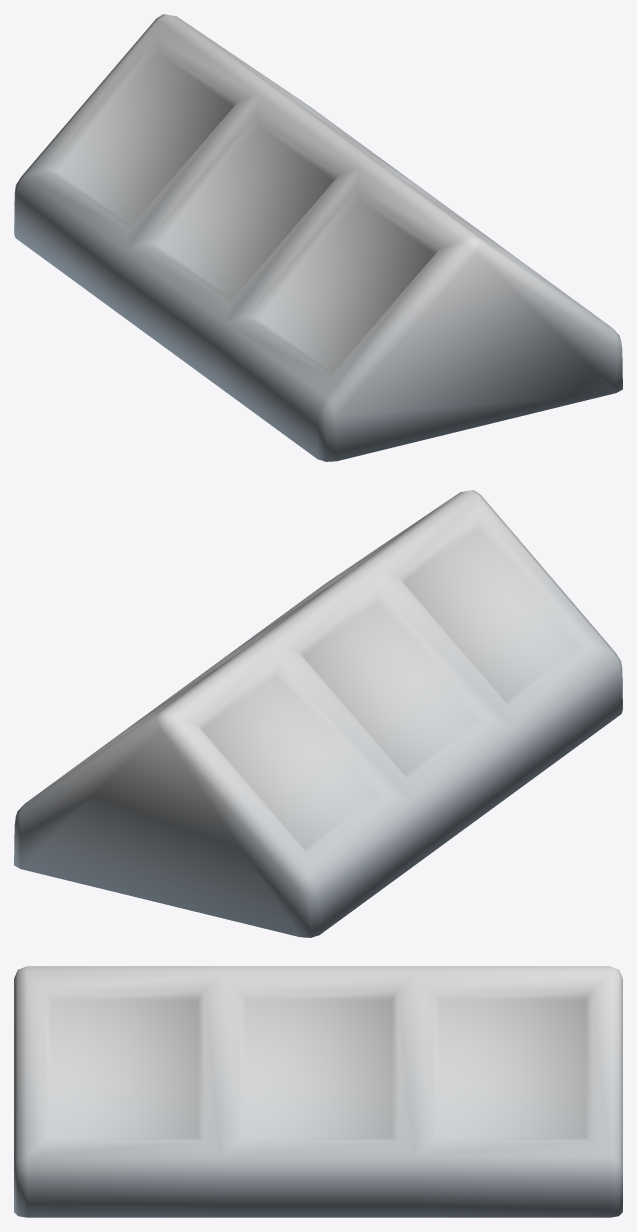
The model's file is SkyWindow_001.fbx.
3 views of the same model, one above another, from view 1: azimuth 30°, elevation 25°; view 2: azimuth 150°, elevation 25°; view 3: azimuth 270°, elevation 25° (orthographic). The views are drawn at different scales.
Visible parts, largest first — view 1: SkyWindow_001; view 2: SkyWindow_001; view 3: SkyWindow_001.
Boxes of the visible parts, bbox=[...] form: SkyWindow_001: bbox=[14, 14, 622, 461]; SkyWindow_001: bbox=[14, 490, 622, 937]; SkyWindow_001: bbox=[14, 966, 622, 1217].
Size of the model in its own units: 165 by 297 by 96.45.
